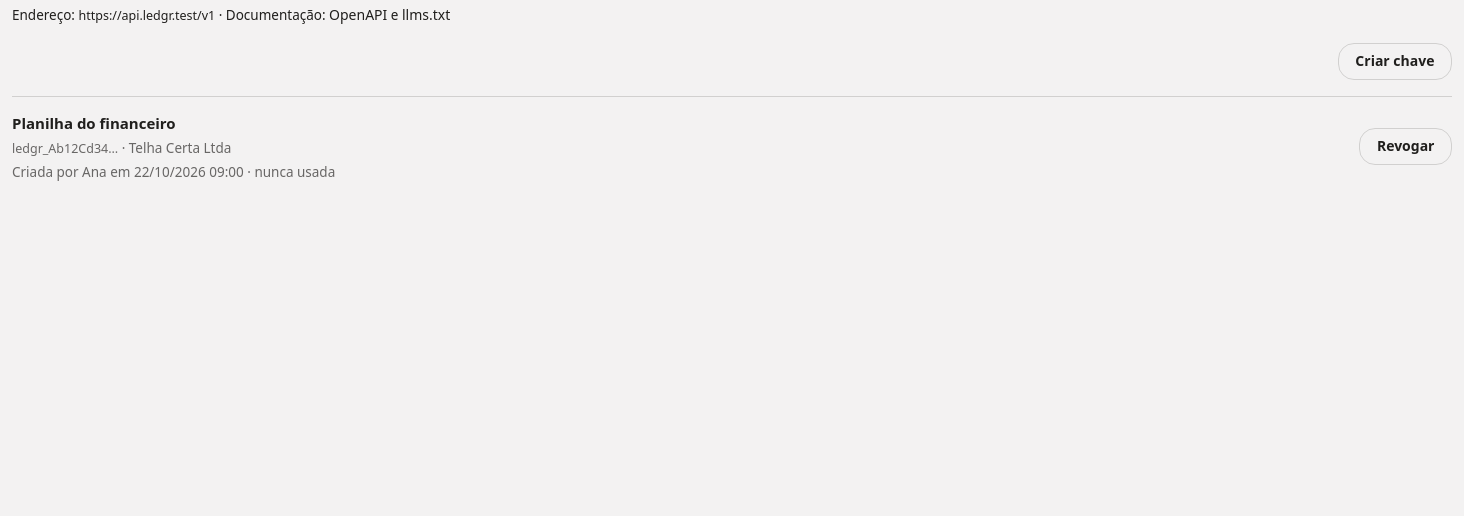
Test case: PainelDeChavesApi › cria a chave da empresa ativa por padrão e mostra o token uma vez só
Click the button "Criar chave" at (1395, 61), box [1338,43,1452,80]
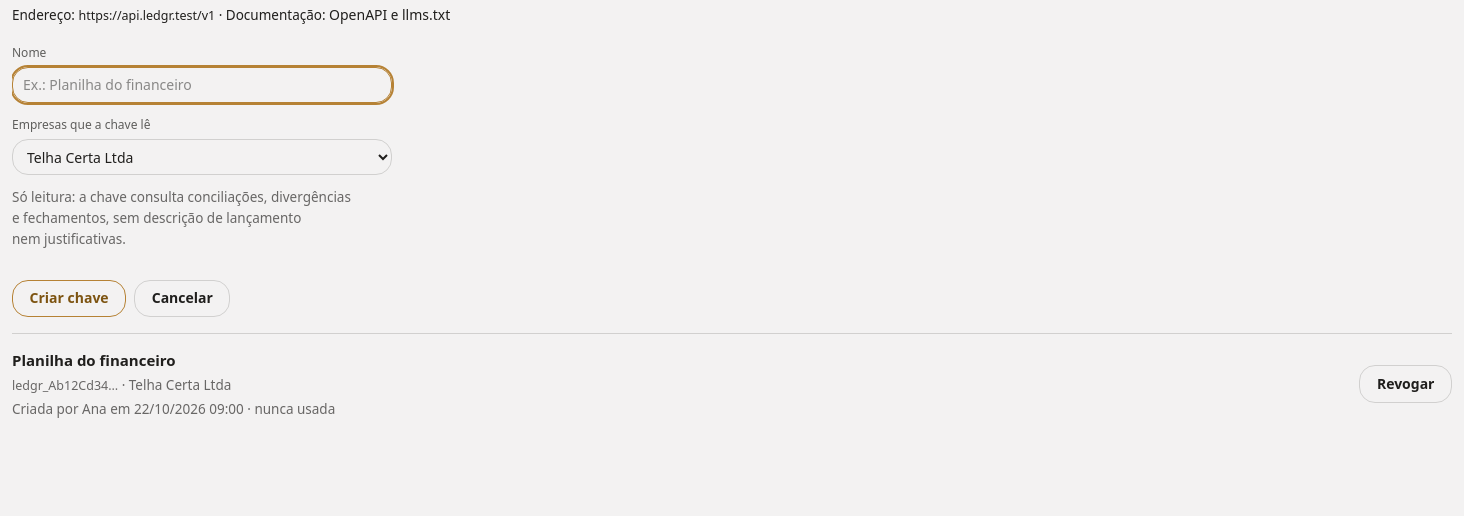
Result: the dropdown labelled "Empresas que a chave lê" shows "Telha Certa Ltda" at [12,139,392,175]
Type "Power BI" into the field labelled "Nome" at (202, 85), box [12,67,392,103]
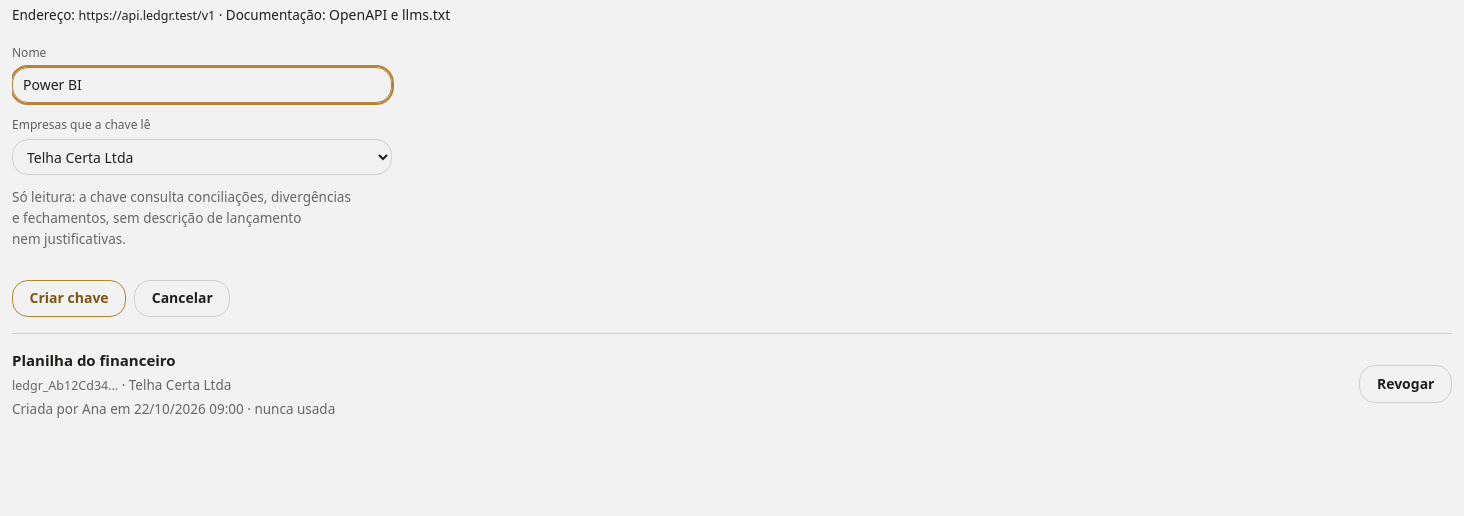
Click the button "Criar chave" at (69, 298), box [12,280,126,317]
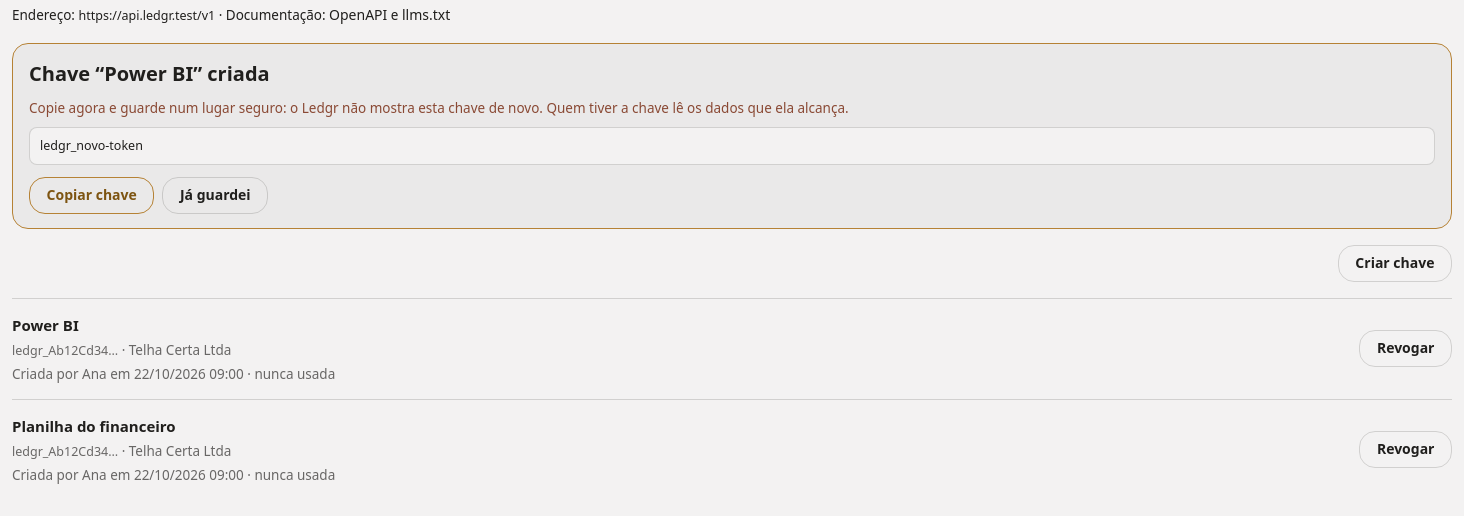
Result: the message shows "Chave “Power BI” criada" at [29,60,270,87]
Result: the text "ledgr_novo-token" is shown at [29,126,1435,164]
Result: the number of list items is 2 at [12,298,1452,399]; [12,399,1452,500]
Click the button "Já guardei" at (215, 195), box [162,176,268,214]
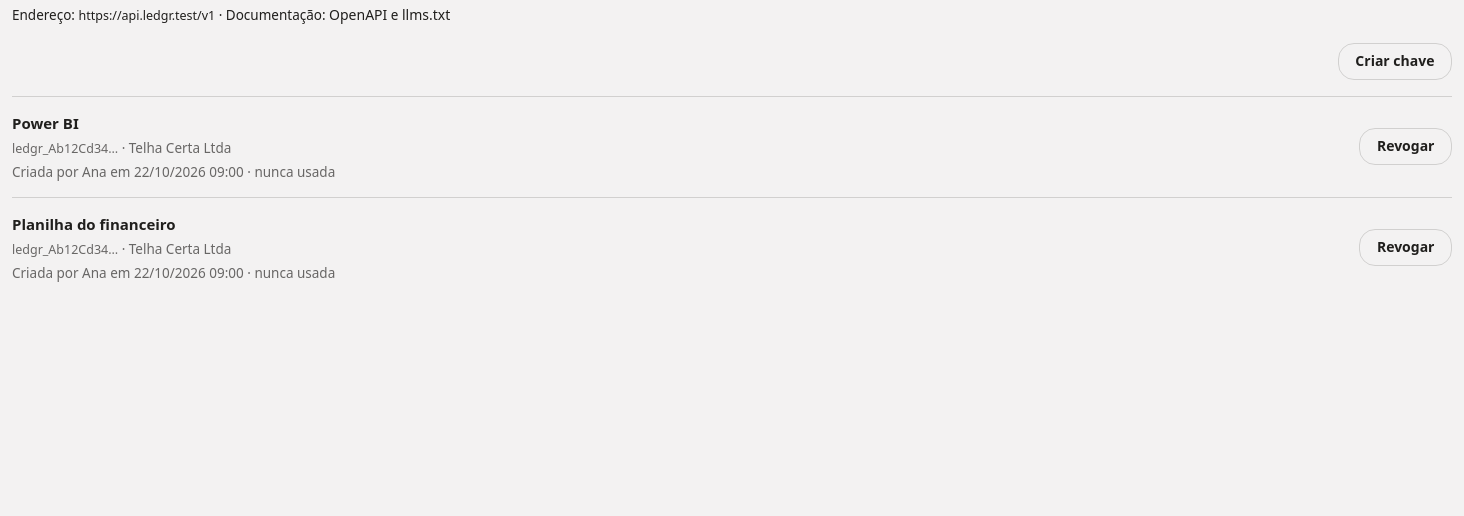
Result: the text "ledgr_novo-token" is gone
